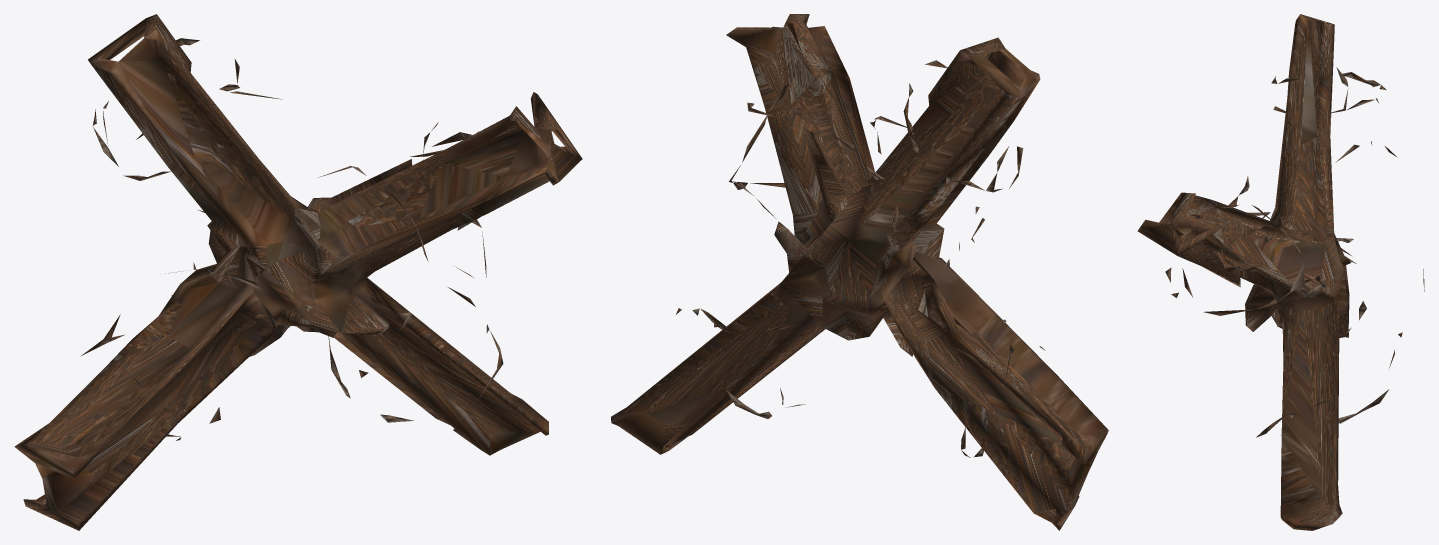
The model's file is hedgehog.glb.
3 renders of one model, left to right at view 1: azimuth 30°, elevation 25°; view 2: azimuth 150°, elevation 25°; view 3: azimuth 270°, elevation 25°, orthographic. The views are drawn at different scales.
Parts seen in each view (by area): view 1: Mesh_0; view 2: Mesh_0; view 3: Mesh_0.
Boxes of the visible parts, x1,y1,x2,y2 form: Mesh_0: (14,14,582,530); Mesh_0: (611,14,1108,530); Mesh_0: (1137,14,1424,530).
Bounding box in the file's own units: 1.9 × 1.8 × 1.24.
Materials: 1 (1 with a texture image).
